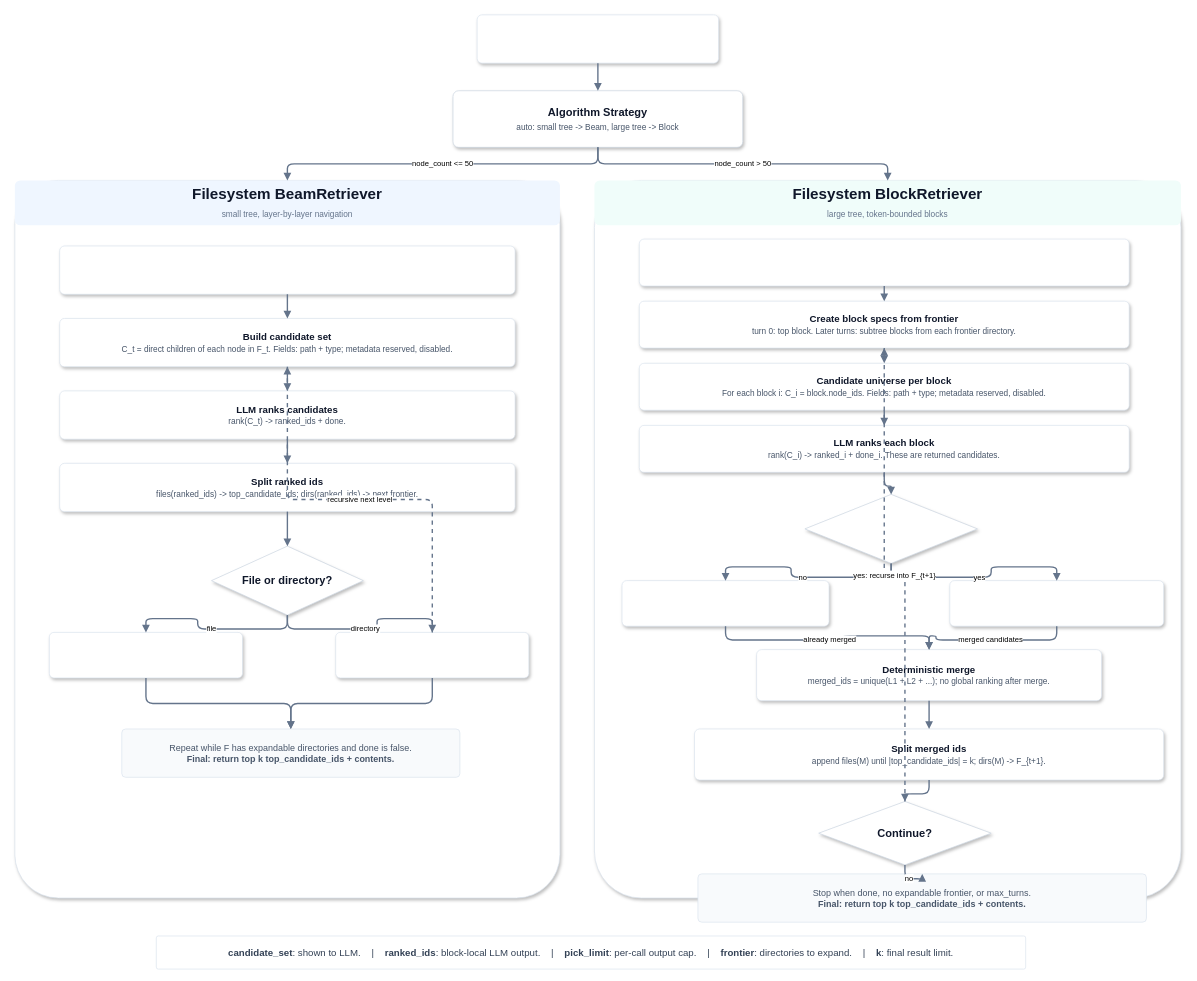
This 1197x981 diagram has some shape labels left out. Here are the shapes that lost their labels. From the top down, the centre of each, then its label:
At pixel 598 39: "ConDB.query() filesystem tree_id + user question".
At pixel 287 271: "Initialize frontier F0 = {root}. Frontier is the directory set to expand.".
At pixel 884 263: "Initialize frontier F0 = {root}; collapse virtual single-child directories.".
At pixel 891 529: "Multiple blocks?".
At pixel 726 604: "Single block merged_ids = ranked_0.".
At pixel 1057 604: "Parallel blocks Merge all ranked_i into merged_ids.".
At pixel 146 656: "File Add to top_candidate_ids A.".
At pixel 432 656: "Directory F_{t+1} = returned directories.".
